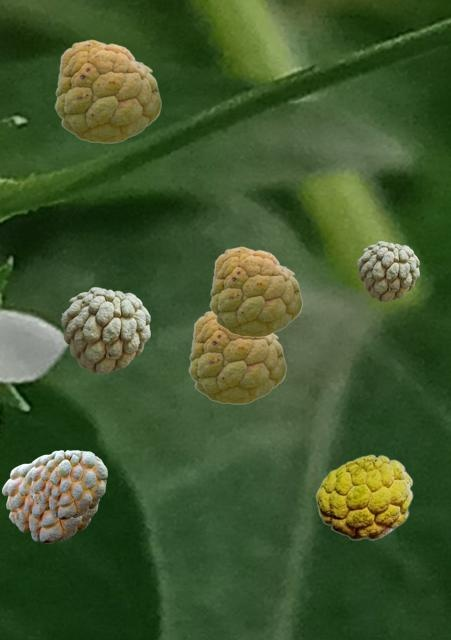atis: (54, 39, 160, 142), (188, 310, 285, 403), (209, 246, 301, 336), (315, 454, 412, 539), (2, 459, 98, 542), (61, 287, 149, 372), (27, 450, 106, 518), (357, 241, 418, 300)
